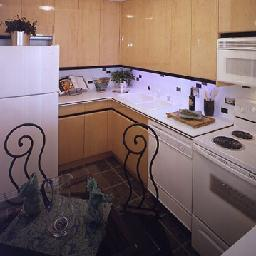Electrodomestico: (190, 108, 255, 246), (2, 45, 56, 188), (153, 118, 193, 227)
